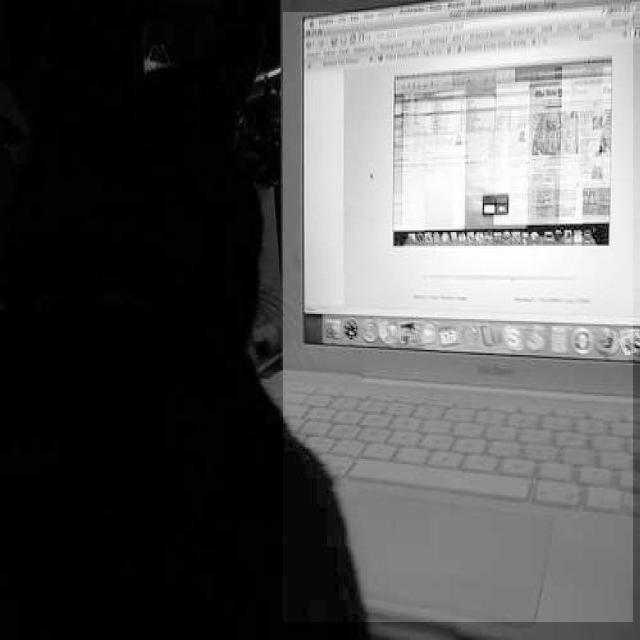-keyboard-: (284, 12, 634, 622)
